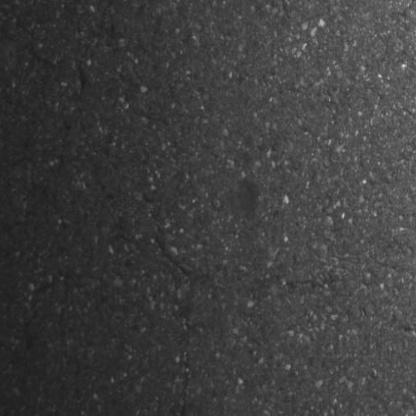Cracks: (147, 207, 217, 416)
